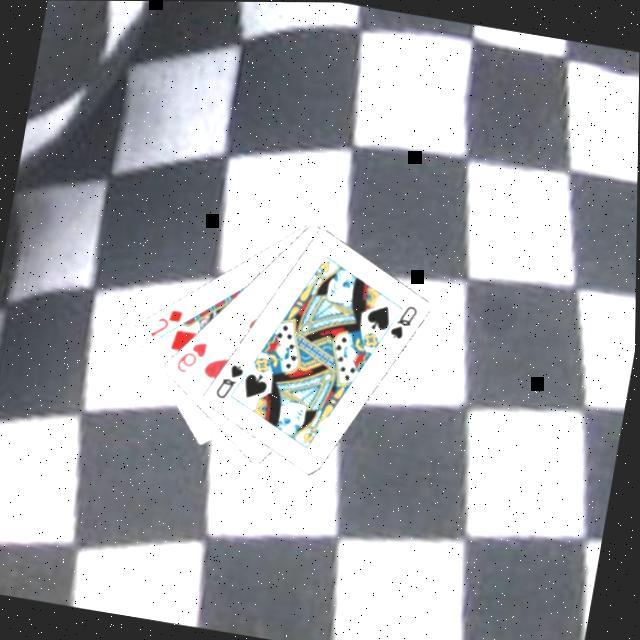6H: (172, 333, 214, 377)
JD: (148, 301, 188, 342)
QS: (386, 297, 424, 343), (213, 357, 250, 402)
